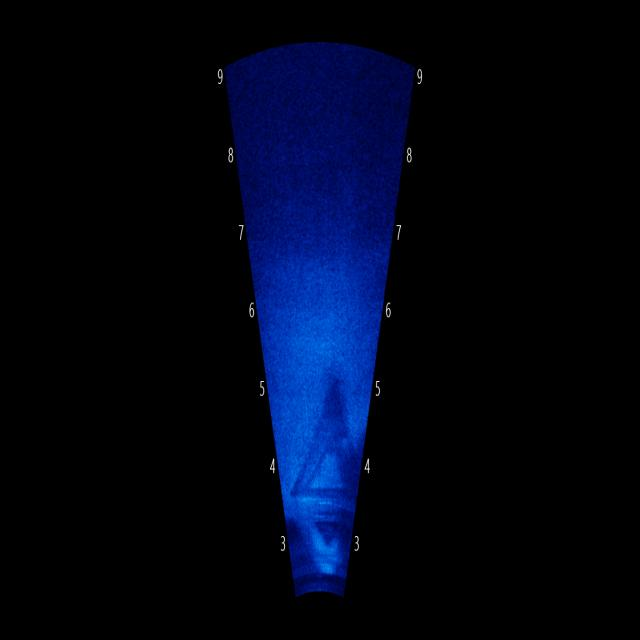triangle: (307, 426, 349, 506)
